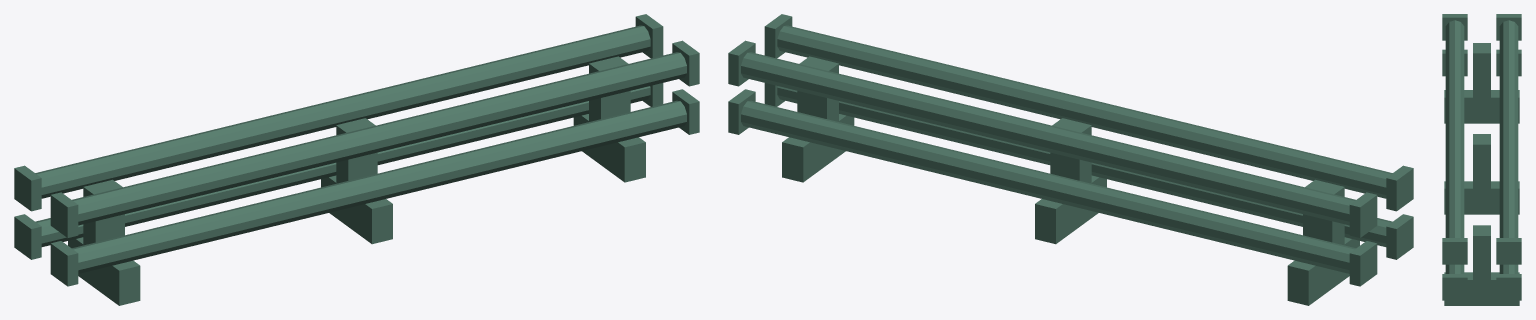
The model's file is botanical-glasshouse-and-palm-house-botanical-glasshou-1c450500__38549.glb.
3 renders of one model, left to right at view 1: azimuth 30°, elevation 25°; view 2: azimuth 150°, elevation 25°; view 3: azimuth 270°, elevation 25°, orthographic. The views are drawn at different scales.
Visible parts, largest first — view 1: botanical-glasshouse-and-palm-house-heating-pipe-run; view 2: botanical-glasshouse-and-palm-house-heating-pipe-run; view 3: botanical-glasshouse-and-palm-house-heating-pipe-run.
Part boxes in pixels (x1,y1,x2,y2): botanical-glasshouse-and-palm-house-heating-pipe-run: [14, 14, 699, 305]; botanical-glasshouse-and-palm-house-heating-pipe-run: [728, 14, 1413, 305]; botanical-glasshouse-and-palm-house-heating-pipe-run: [1442, 14, 1521, 305].
Bounding box in the file's own units: 3 × 0.5098 × 0.4398.
